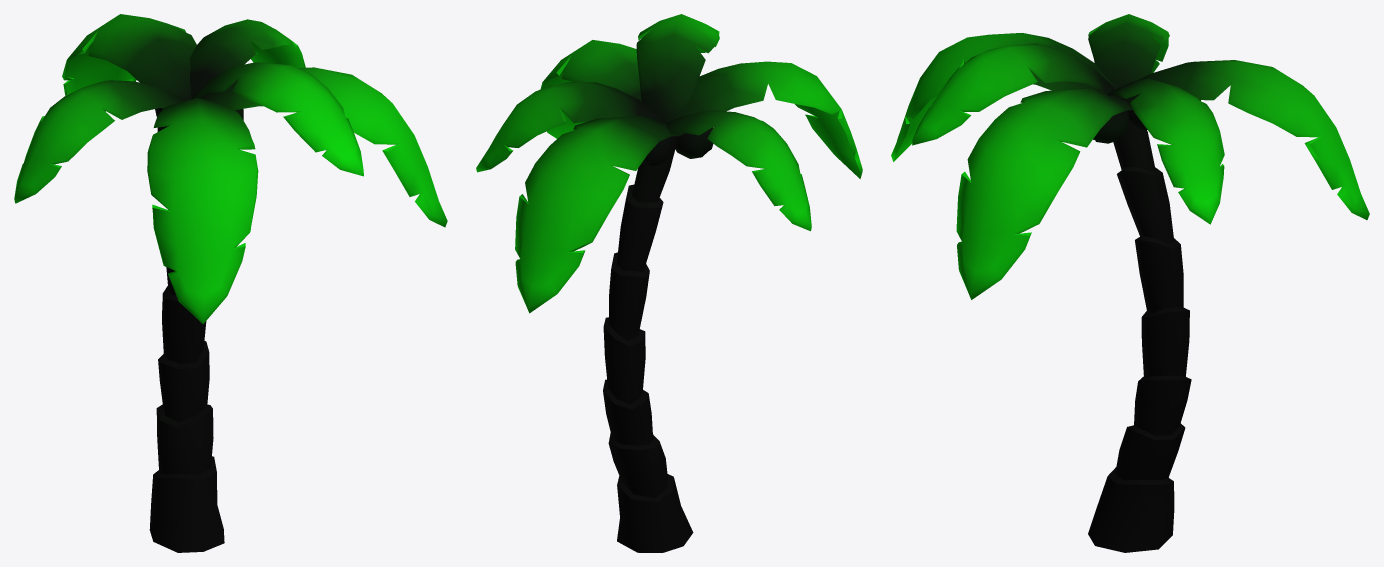
File: Palm.FBX
3 views of the same model, side by side, from view 1: azimuth 30°, elevation 25°; view 2: azimuth 150°, elevation 25°; view 3: azimuth 270°, elevation 25° (orthographic). The views are drawn at different scales.
Visible parts, largest first — view 1: Palm_low; view 2: Palm_low; view 3: Palm_low.
Part boxes in pixels (x1=…): Palm_low: x1=14, y1=14, x2=447, y2=552; Palm_low: x1=476, y1=14, x2=862, y2=552; Palm_low: x1=891, y1=14, x2=1369, y2=552.
Bounding box in the file's own units: 324 × 443 × 380.
